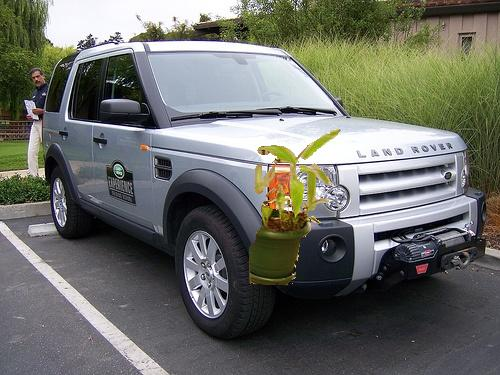tampered: (51, 130, 341, 285)
